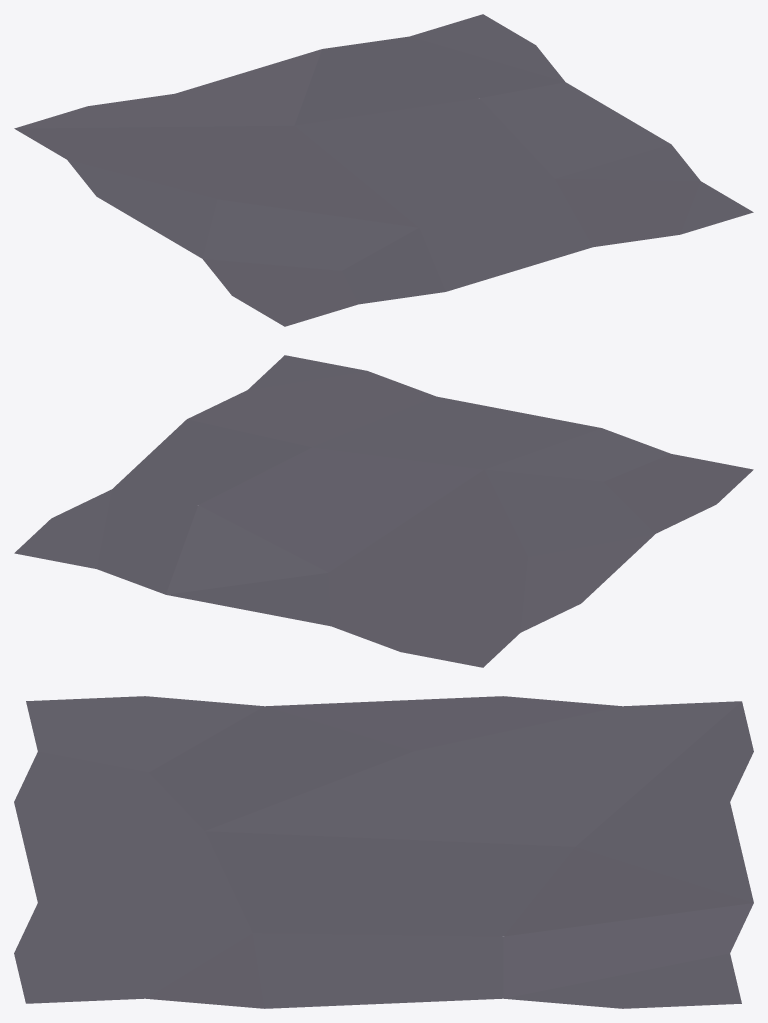
The model's file is Floor_02.fbx.
3 renders of one model, top to bottom at view 1: azimuth 30°, elevation 25°; view 2: azimuth 150°, elevation 25°; view 3: azimuth 270°, elevation 25°, orthographic. The views are drawn at different scales.
Visible parts, largest first — view 1: Floor_02; view 2: Floor_02; view 3: Floor_02.
Boxes of the visible parts, x1=… form: Floor_02: x1=14, y1=14, x2=753, y2=326; Floor_02: x1=14, y1=355, x2=753, y2=667; Floor_02: x1=14, y1=696, x2=753, y2=1008.
Bounding box in the file's own units: 103 × 1.84 × 103.
1 material, 1 textured.
